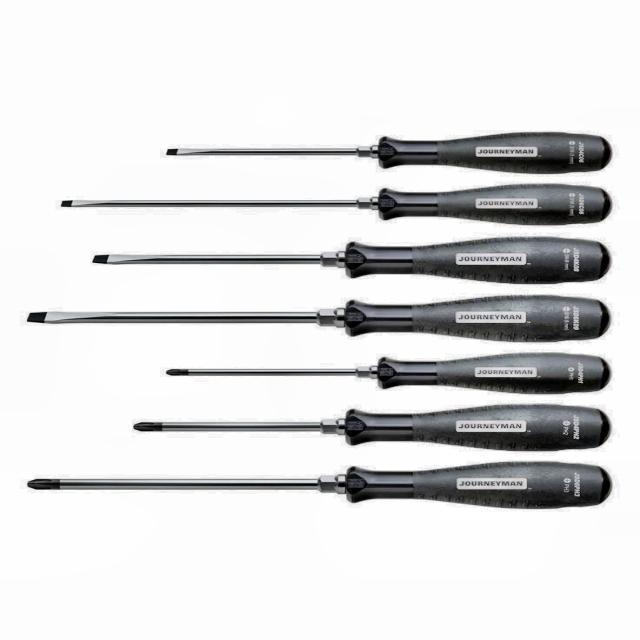screwdriver: (26, 458, 611, 512), (26, 294, 614, 342), (93, 236, 612, 286), (58, 181, 612, 226), (134, 404, 610, 452), (167, 128, 612, 176), (165, 352, 612, 394)
